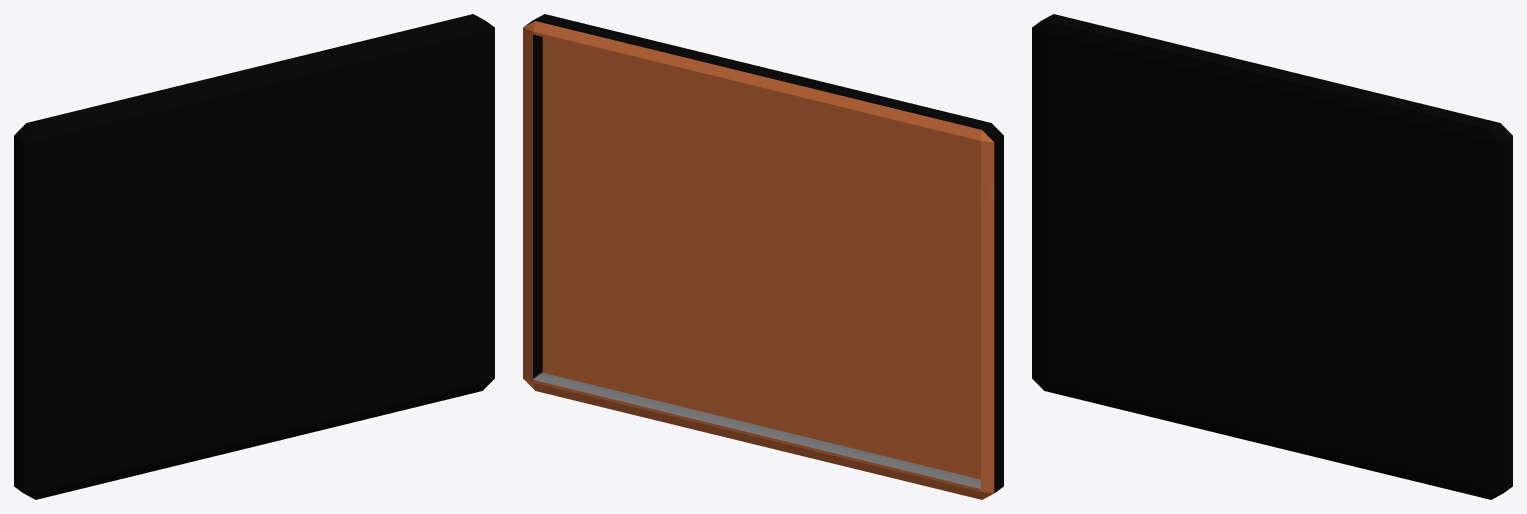
File: board.dae
3 renders of one model, left to right at view 1: azimuth 30°, elevation 25°; view 2: azimuth 150°, elevation 25°; view 3: azimuth 330°, elevation 25°, orthographic.
Parts seen in each view (by area): view 1: Cube; view 2: Cube; view 3: Cube.
Part boxes in pixels (x1=…): Cube: x1=14, y1=14, x2=494, y2=499; Cube: x1=523, y1=14, x2=1003, y2=499; Cube: x1=1032, y1=14, x2=1512, y2=499.
Bounding box in the file's own units: 8 × 0.3824 × 6.
1 material, 1 textured.
